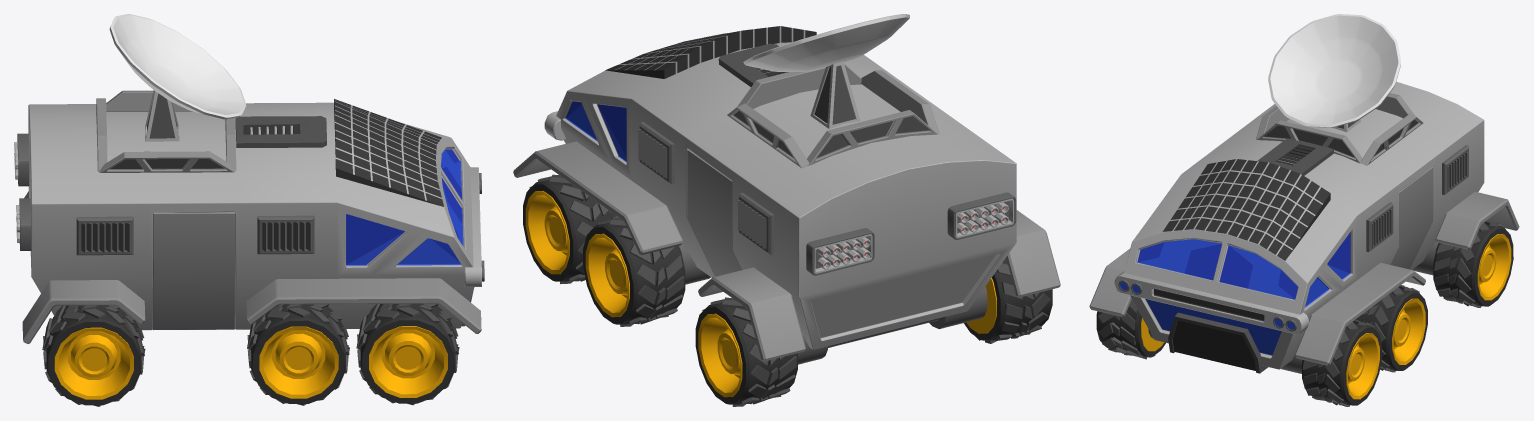
Rendered from veiculo_origem.glb.
3 views of the same model, side by side, from view 1: azimuth 30°, elevation 25°; view 2: azimuth 150°, elevation 25°; view 3: azimuth 270°, elevation 25° (orthographic). The views are drawn at different scales.
Visible parts, largest first — view 1: vehicle.002; view 2: vehicle.002; view 3: vehicle.002.
Part boxes in pixels (x1,y1,x2,y2): vehicle.002: (14, 14, 484, 406); vehicle.002: (513, 14, 1060, 406); vehicle.002: (1089, 14, 1519, 406).
Bounding box in the file's own units: 6.22 × 3.88 × 5.63.
Materials: 1 (1 with a texture image).
